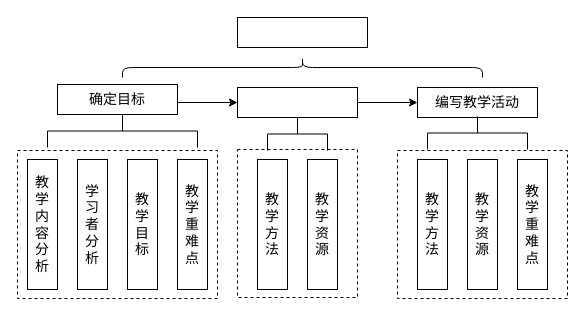
Some shapes in this 585 by 316 pixel diagram are drawn without their labels. Each missing label, with the box of its shape:
教学设计案例: (236, 16, 368, 48)
设计教学内容: (236, 86, 358, 118)
